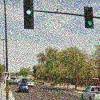traffic lights: (22, 0, 34, 30), (83, 5, 95, 30)
